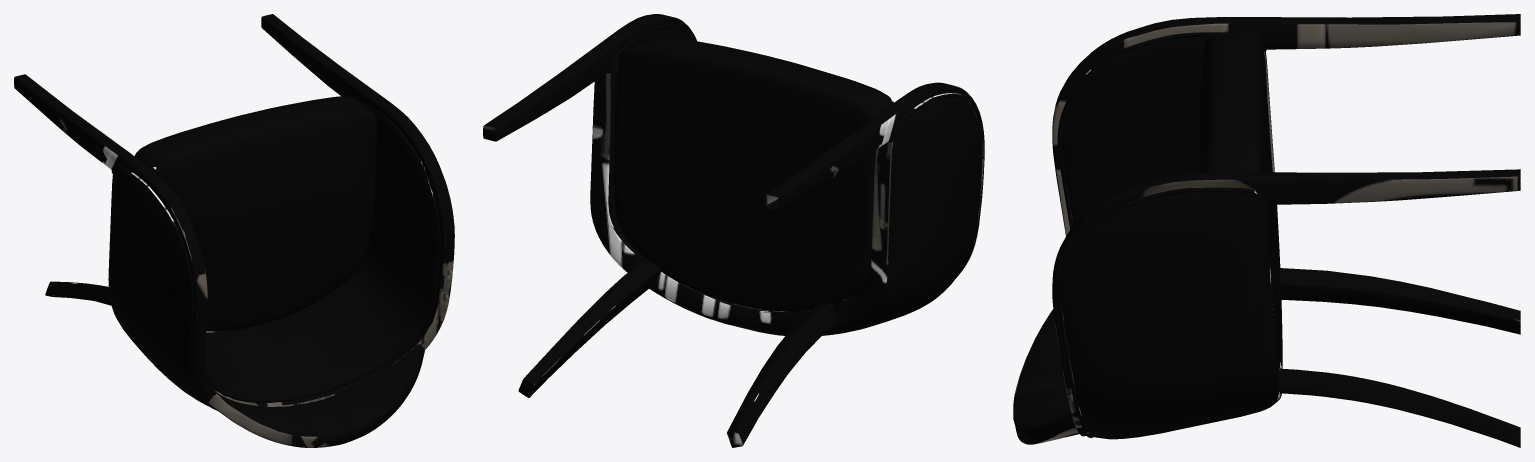
The picture shows the model from 3 angles, left to right: view 1: azimuth 30°, elevation 25°; view 2: azimuth 150°, elevation 25°; view 3: azimuth 270°, elevation 25°; orthographic projection. The views are drawn at different scales.
Bounding box in the file's own units: 0.6038 × 0.5513 × 0.7444.
